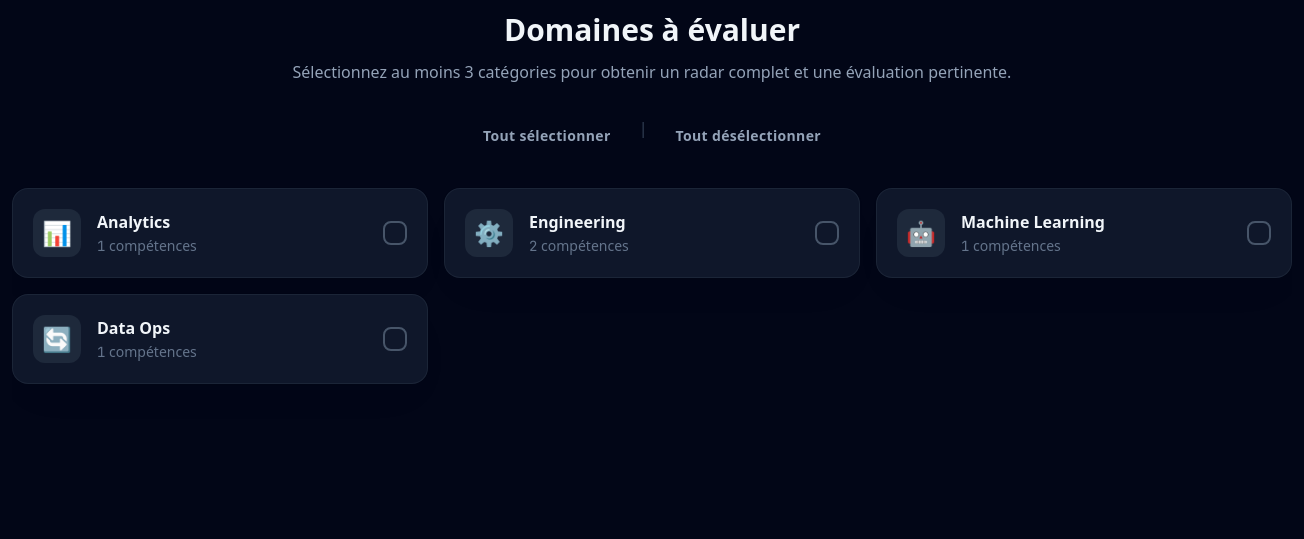
Test: CategoryPicker › Tout désélectionner clears selection
This screenshot has width=1304, height=539.
Click the button "Tout sélectionner" at (547, 136), box [463,116,631,156]
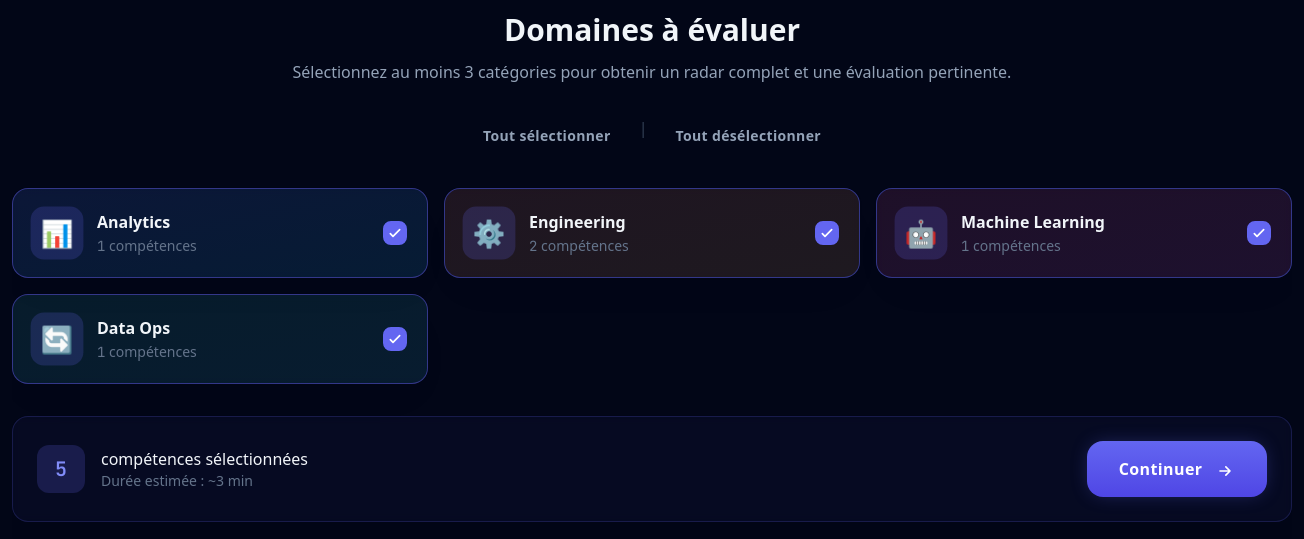
Click the button "Tout désélectionner" at (748, 136), box [656,116,841,156]
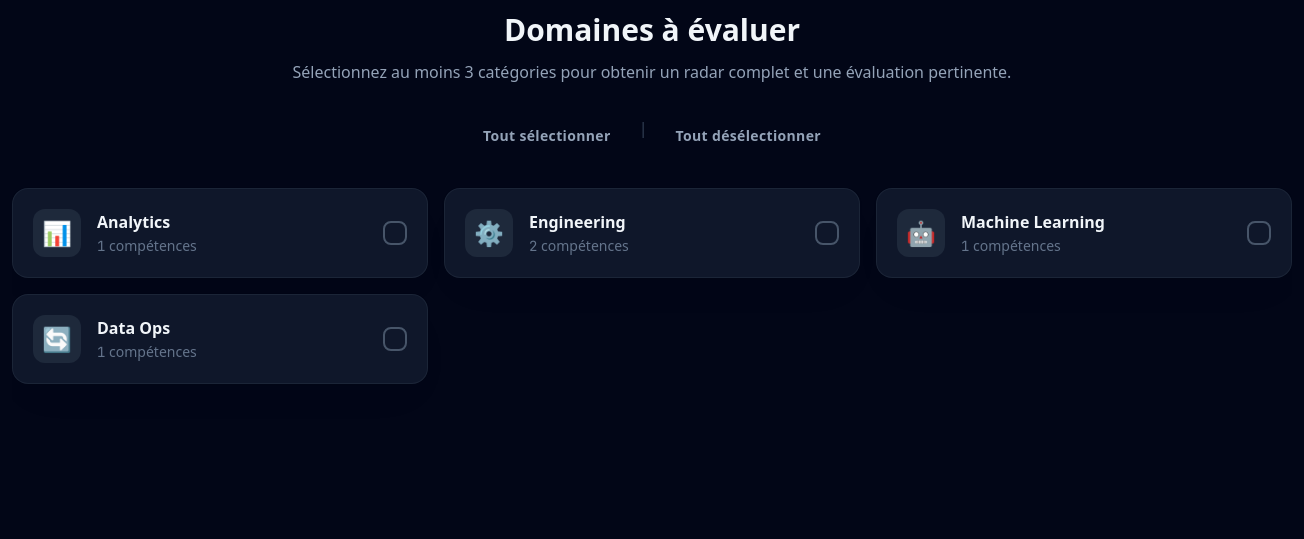
Expected: the text "Continuer" is gone
